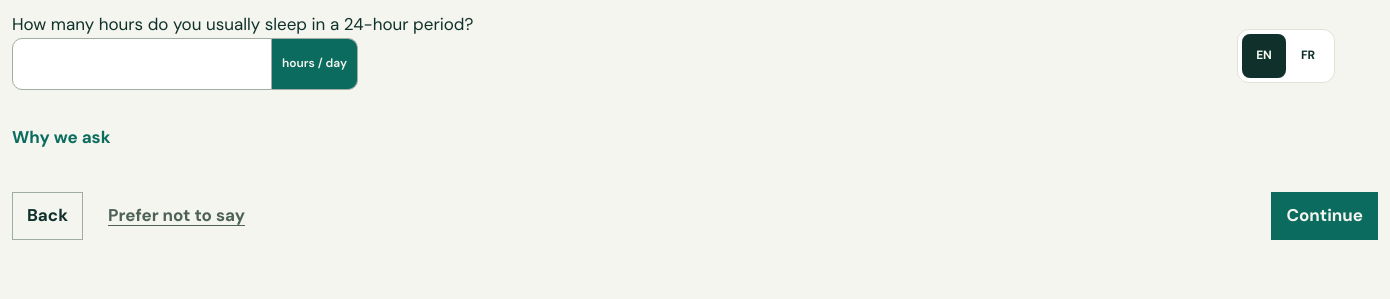
it: keeps an impossible usual_sleep_hours answer on screen with a described error
Type "100" into the number field at (142, 64), box top-left (12, 38), bottom-right (272, 90)
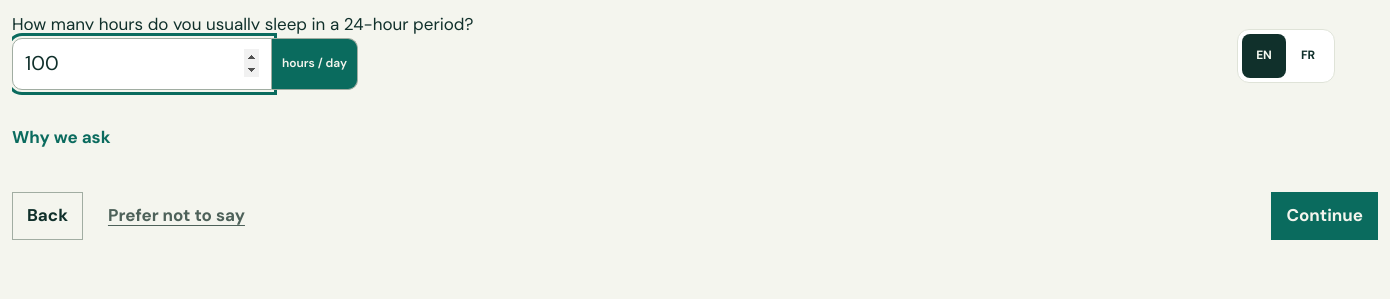
Click the button "Continue" at (1325, 216), box top-left (1271, 192), bottom-right (1378, 240)
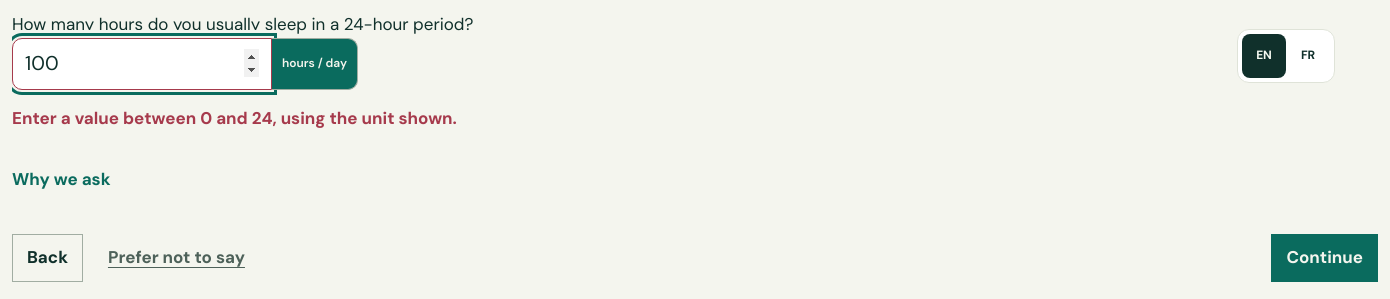
Check: the message "Enter a value between 0 and 24, using the unit shown." is shown, box top-left (12, 106), bottom-right (457, 128)
